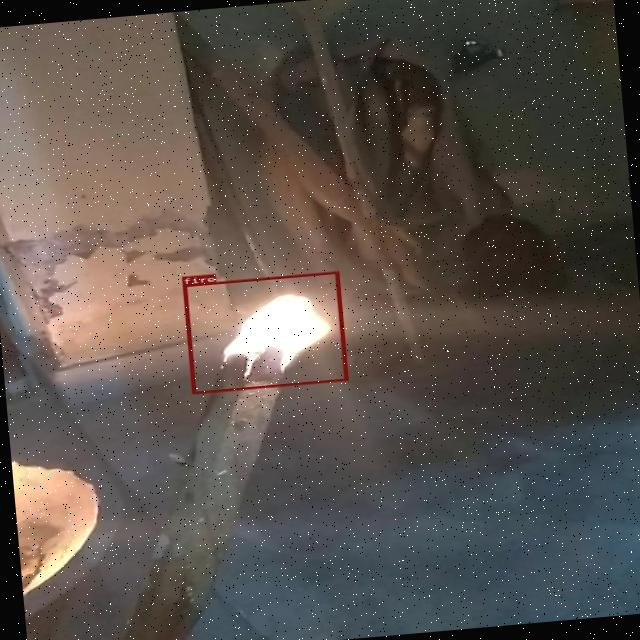fire: (182, 271, 348, 394)
